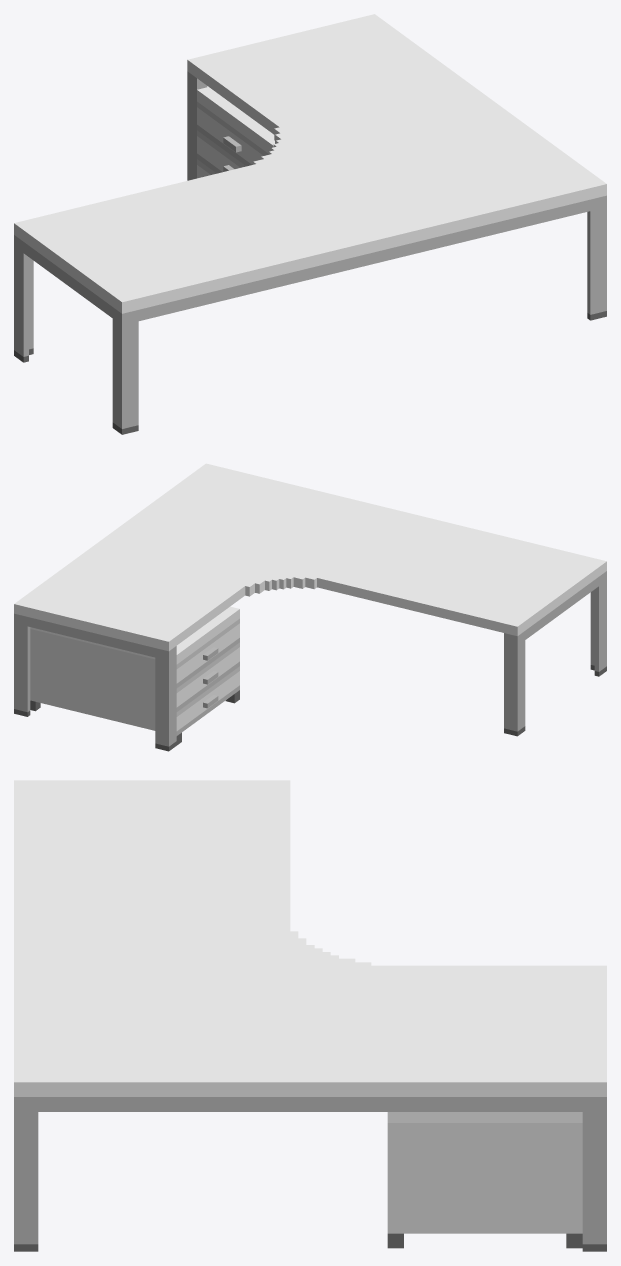
File: Desk3-2.fbx
3 renders of one model, top to bottom at view 1: azimuth 30°, elevation 25°; view 2: azimuth 150°, elevation 25°; view 3: azimuth 270°, elevation 25°, orthographic. The views are drawn at different scales.
Parts seen in each view (by area): view 1: Desk3-2.001; view 2: Desk3-2.001; view 3: Desk3-2.001.
Boxes of the visible parts, bbox=[...] form: Desk3-2.001: bbox=[14, 14, 606, 434]; Desk3-2.001: bbox=[14, 463, 606, 751]; Desk3-2.001: bbox=[14, 780, 606, 1251].
Bounding box in the file's own units: 8.8 × 2.3 × 7.3.
